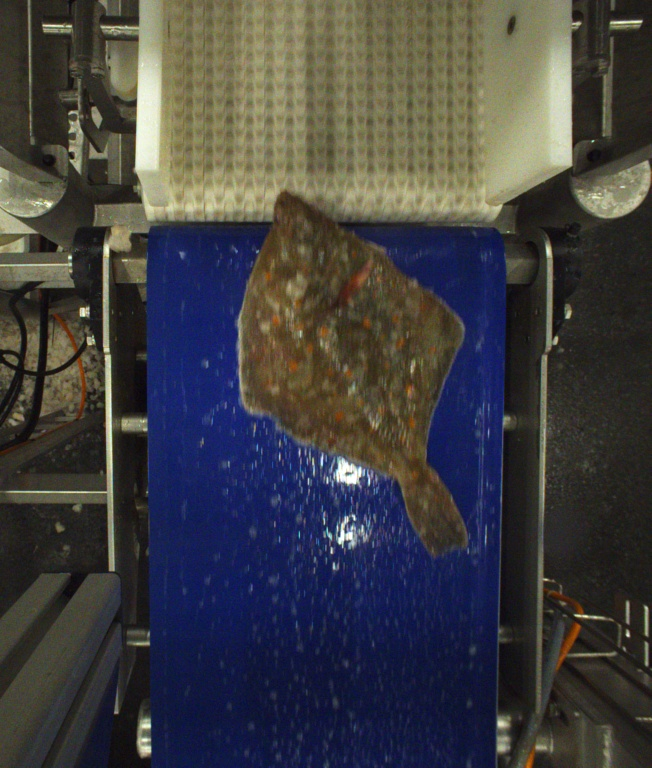PLE: (235, 188, 472, 556)
